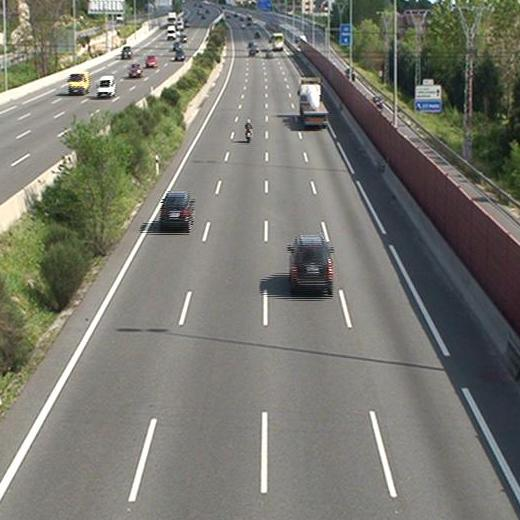bus: (272, 32, 285, 50)
car: (287, 236, 334, 292), (160, 193, 195, 230)
motorcycle: (244, 119, 253, 141)
truck: (297, 77, 329, 127)
